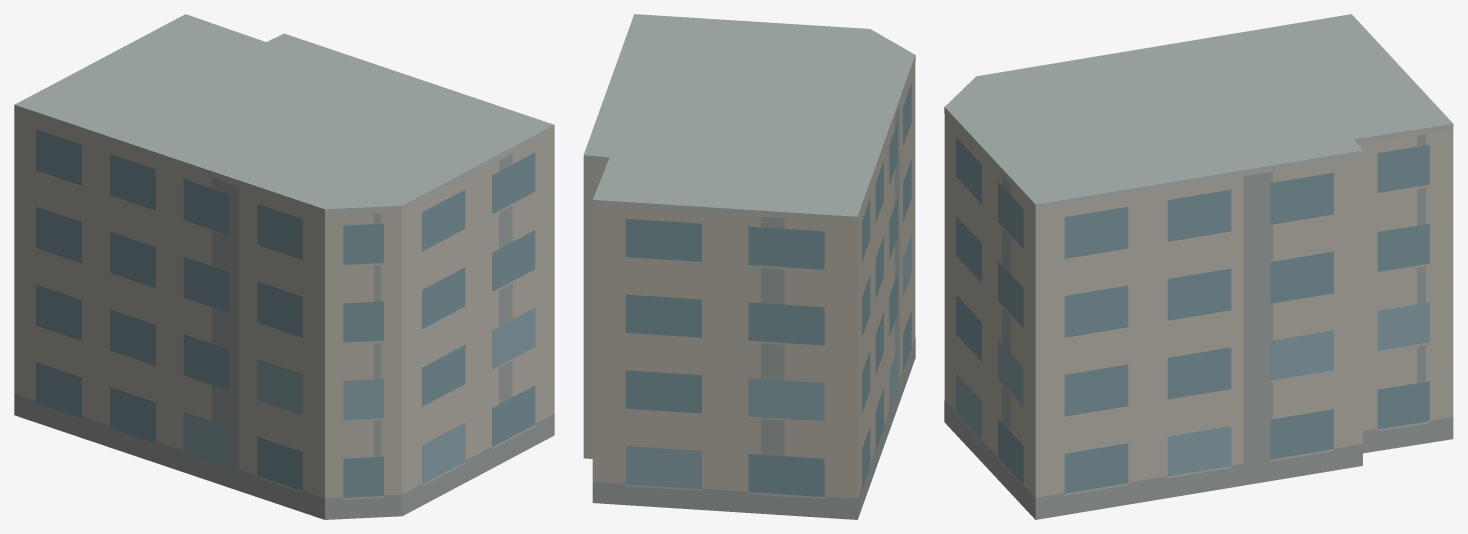
Rendered from residential-247359fb-02b5-4194-a8b5-620af9f6eb66.glb.
3 views of the same model, side by side, from view 1: azimuth 30°, elevation 25°; view 2: azimuth 150°, elevation 25°; view 3: azimuth 270°, elevation 25° (orthographic). The views are drawn at different scales.
Parts seen in each view (by area): view 1: residential-247359fb-02b5-4194-a8b5-620af9f6eb66.tmp; view 2: residential-247359fb-02b5-4194-a8b5-620af9f6eb66.tmp; view 3: residential-247359fb-02b5-4194-a8b5-620af9f6eb66.tmp.
Part boxes in pixels (bbox=[...]): residential-247359fb-02b5-4194-a8b5-620af9f6eb66.tmp: bbox=[14, 14, 554, 519]; residential-247359fb-02b5-4194-a8b5-620af9f6eb66.tmp: bbox=[583, 14, 915, 519]; residential-247359fb-02b5-4194-a8b5-620af9f6eb66.tmp: bbox=[944, 14, 1453, 519].
Bounding box in the file's own units: 15.56 × 12 × 17.56.
